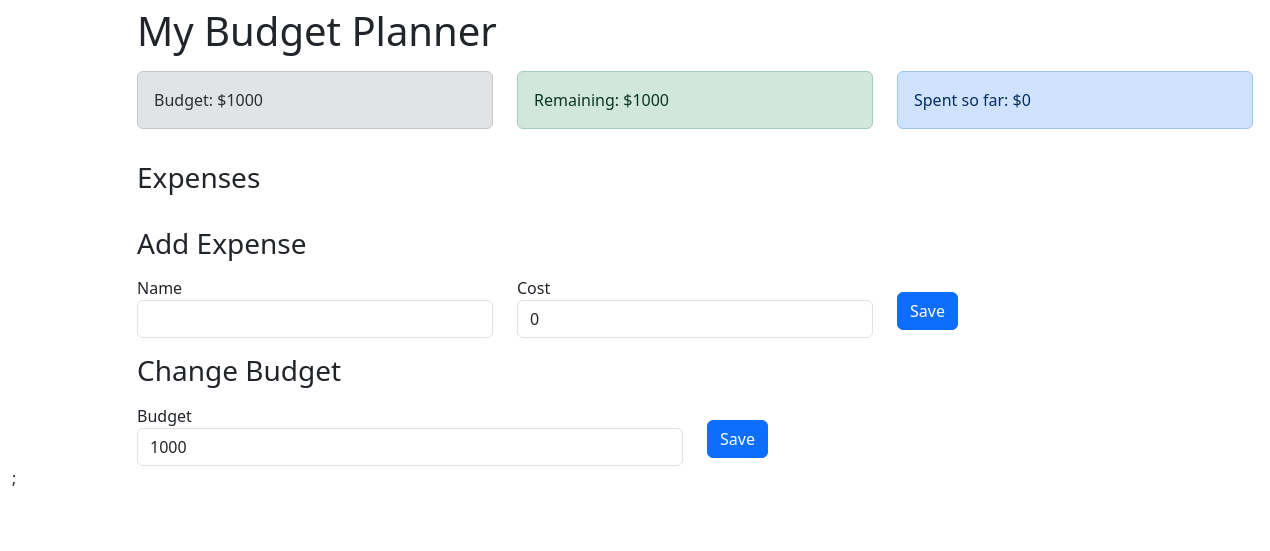
Test: Tests for TritonTrack › Create an Expense
Step 1. Type "Food" into the field labelled "Name" → (315, 319), box [137,300,493,338]
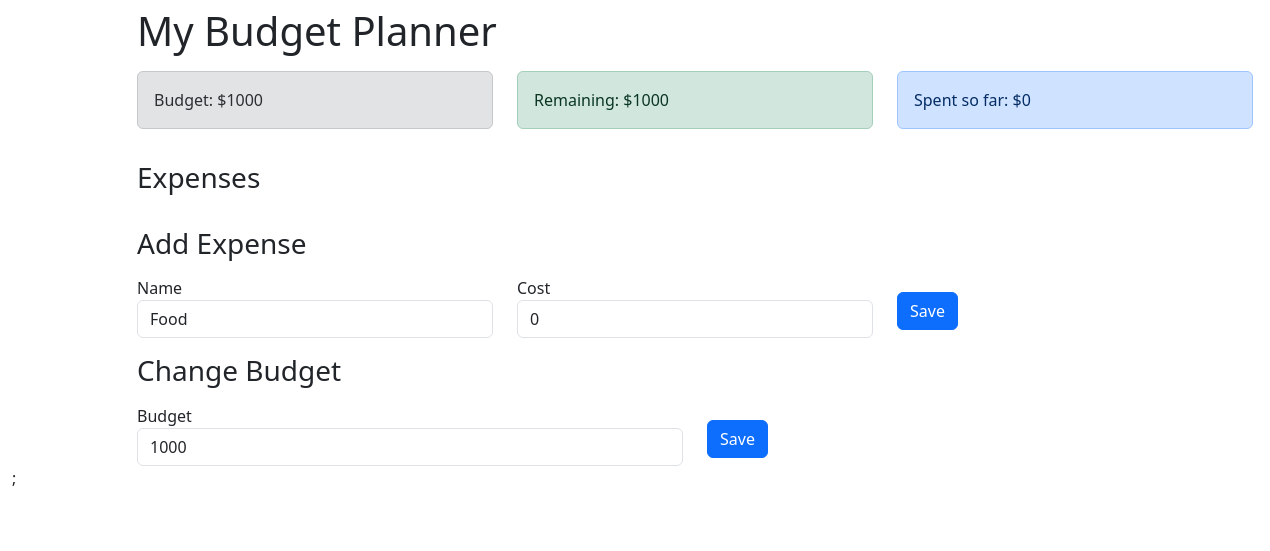
Step 2. Replace the text in the field labelled "Cost" with "20" → (695, 319), box [517,300,873,338]
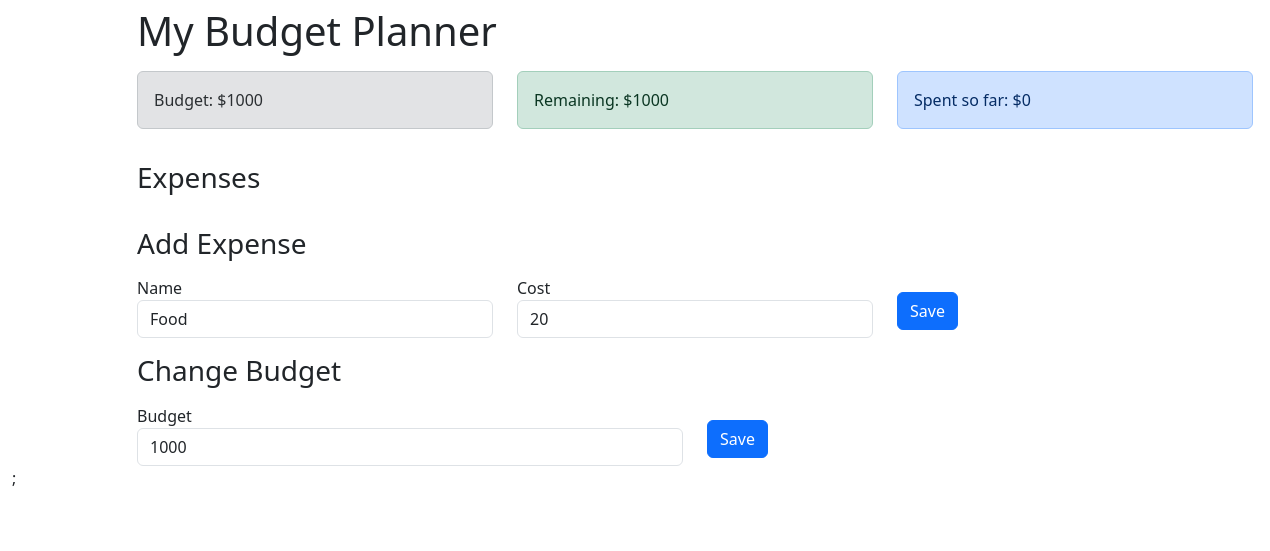
Step 3. Click the button with test id "expense-save-button" → (927, 311), box [897,292,958,330]
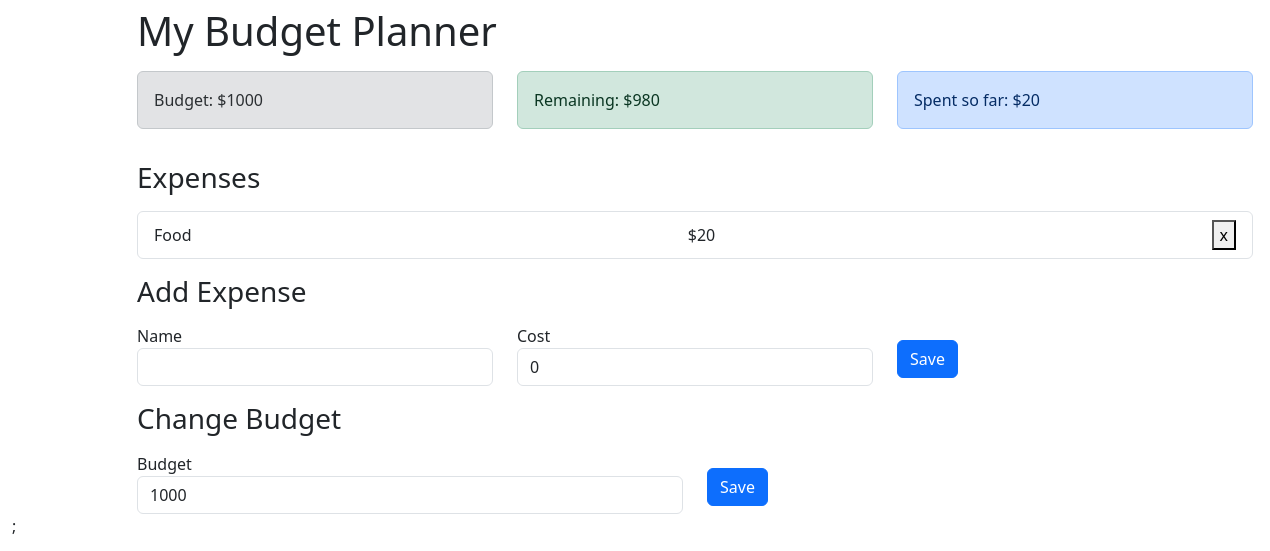
Expected: the text "Food" is shown, [154,223,192,247]
Expected: the text "$20" is shown, [688,223,715,247]
Expected: the text "Remaining: $980" is shown, [534,89,660,111]
